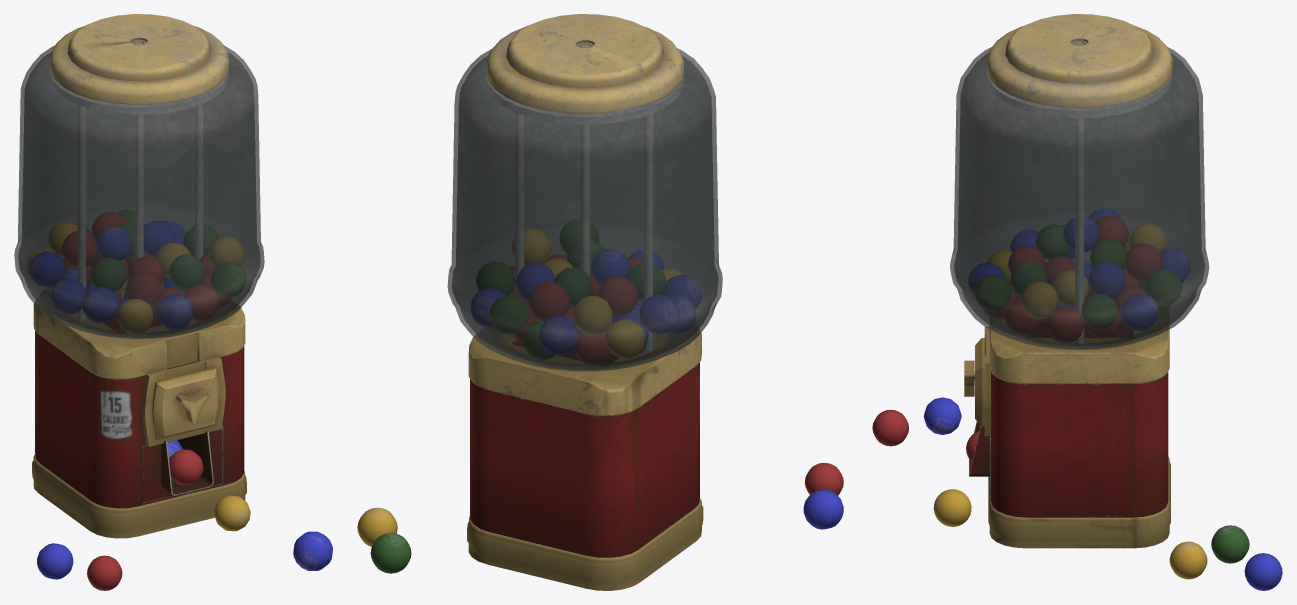
File: old-gumball-machine-3d77e6.glb
3 views of the same model, side by side, from view 1: azimuth 30°, elevation 25°; view 2: azimuth 150°, elevation 25°; view 3: azimuth 270°, elevation 25° (orthographic). The views are drawn at different scales.
Parts seen in each view (by area): view 1: PropMesh; view 2: PropMesh; view 3: PropMesh.
Boxes of the visible parts, x1,y1,x2,y2 form: PropMesh: (14, 14, 264, 590); PropMesh: (293, 14, 843, 590); PropMesh: (872, 14, 1282, 590).
Size of the model in its own units: 1.73 by 2.2 by 1.75.
Materials: 3 (3 with a texture image).
